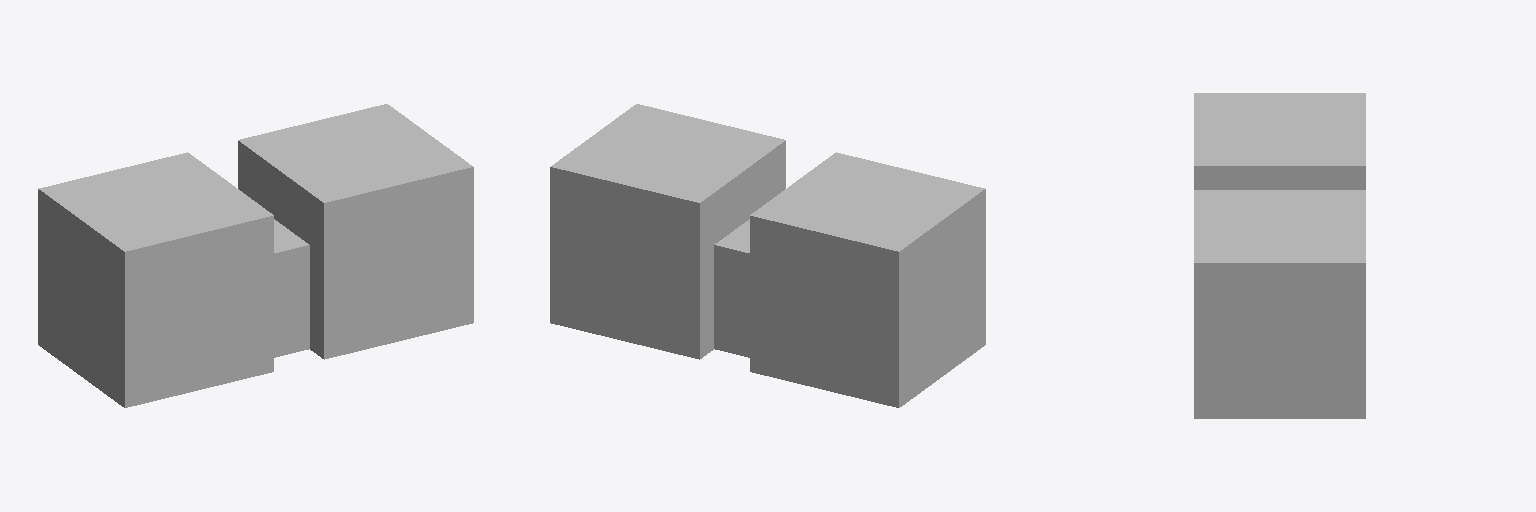
Rendered from room1.obj.
The picture shows the model from 3 angles: view 1: azimuth 30°, elevation 25°; view 2: azimuth 150°, elevation 25°; view 3: azimuth 270°, elevation 25°; orthographic projection.
Visible parts, largest first — view 1: polySurface1; view 2: polySurface1; view 3: polySurface1.
Part boxes in pixels (x1,y1,x2,y2): polySurface1: (38, 104, 473, 407); polySurface1: (550, 104, 985, 407); polySurface1: (1194, 93, 1365, 418).
Size of the model in its own units: 700 by 300 by 300.